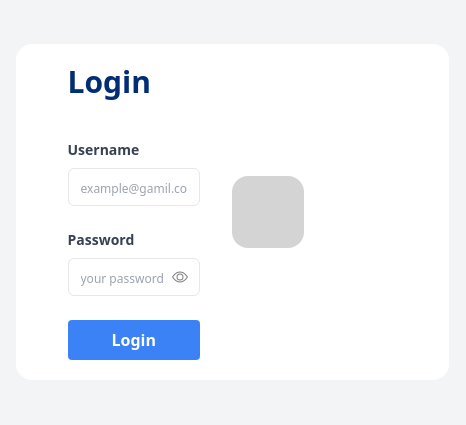
Test case: LoginPage › clears error message when success occurs
This screenshot has width=466, height=425.
// First trigger an error
In the field labelled "Username": (134, 187) [68, 168, 200, 206], type "Invalid User"
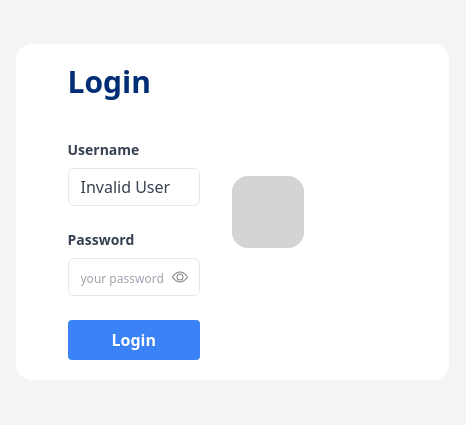
In the password field labelled "Password": (134, 277) [68, 258, 200, 296], type "invalidpassword"
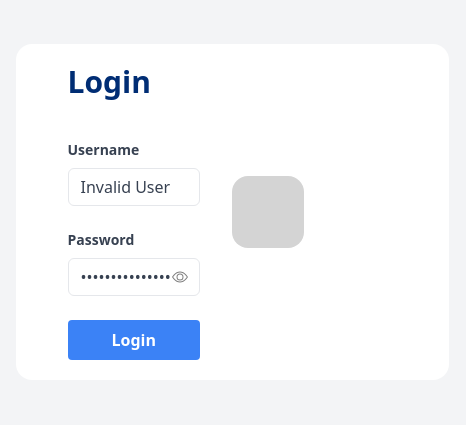
Click the button "Login": (134, 340) [68, 320, 200, 360]
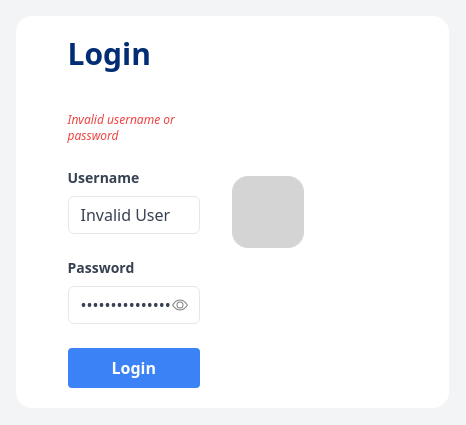
Result: the message reads "Invalid username or password" at [68, 111, 175, 144]
// Now enter valid credentials
Replace the text in the field labelled "Username" with "John Doe": (134, 215) [68, 196, 200, 234]
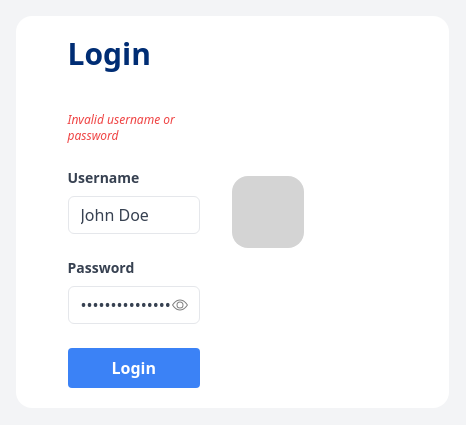
In the password field labelled "Password": (134, 305) [68, 286, 200, 324], type "johndoe@123"
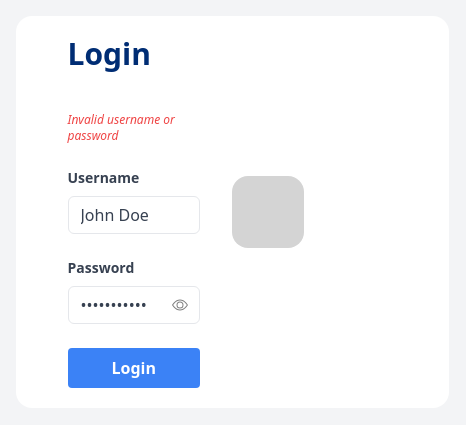
Click the button "Login": (134, 368) [68, 348, 200, 388]
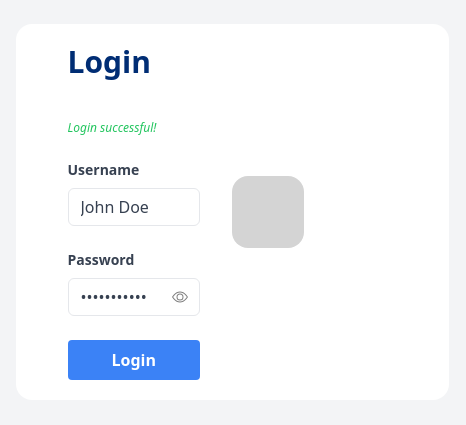
Result: the message "Invalid username or password" is gone
Result: the text "Login successful!" is shown at [68, 119, 156, 136]
